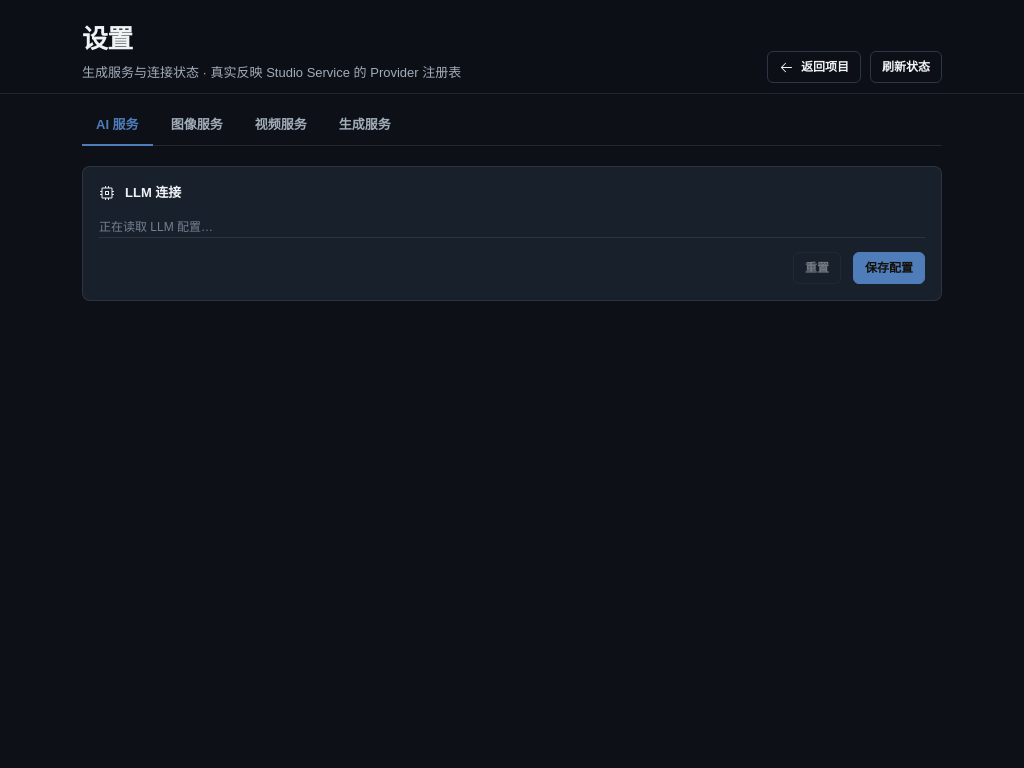
Test case: 工作流 live 健康检查面板（SettingsPage · ComfyUI 卡） › ② 点击「检查」渲染逐节点 ok 列表（node_id + class_type）
Click the tab "生成服务".
click(365, 127)  # box [325,108,405,146]
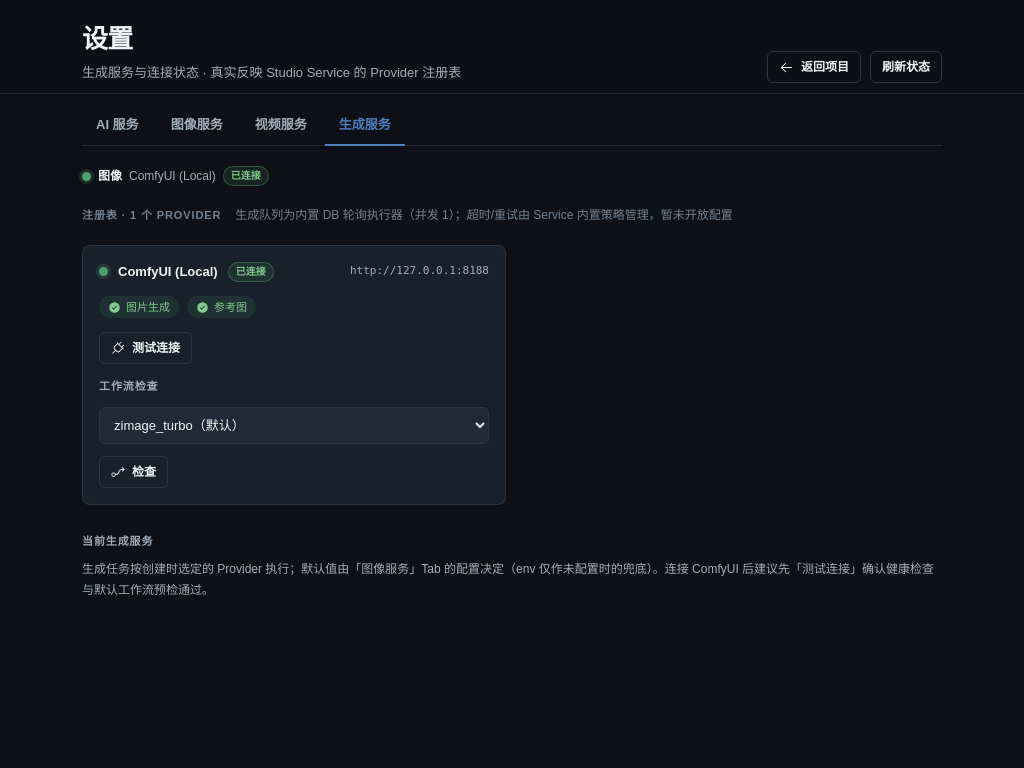
Click the button "检查".
click(134, 472)  # box [99,456,168,488]
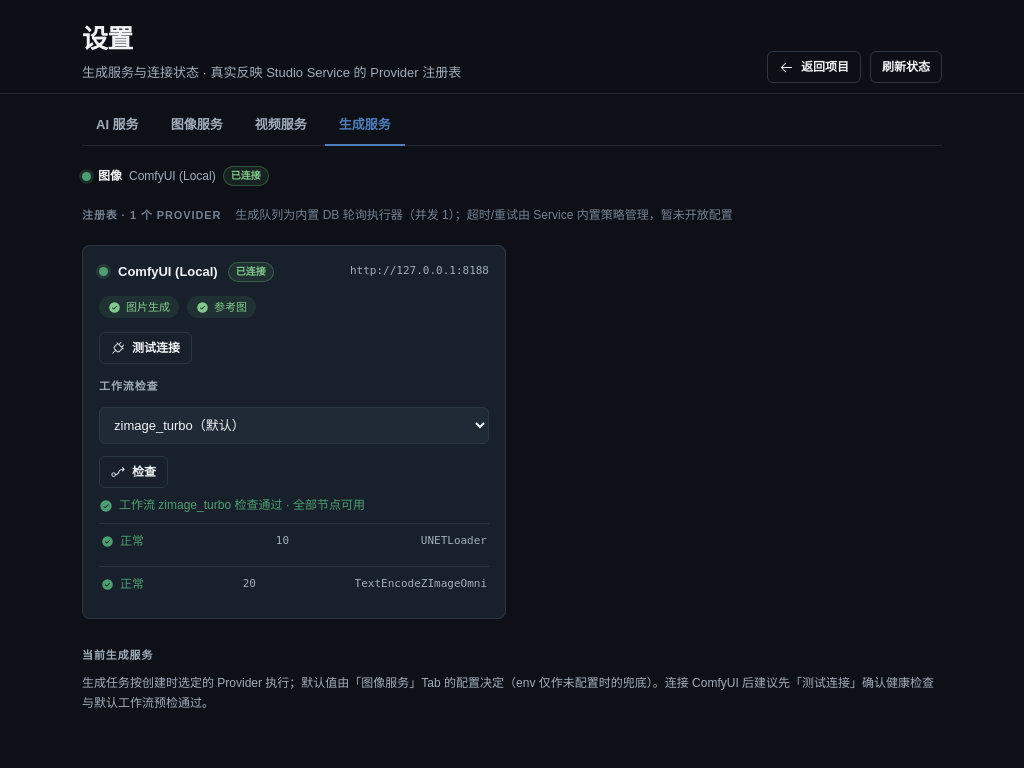
expect the text "工作流 zimage_turbo 检查通过 · 全部节点可用" is shown: met, box [99,496,365,515]
expect the text "10" is shown: met, box [276,533,289,550]
expect the text "UNETLoader" is shown: met, box [421,533,487,550]
